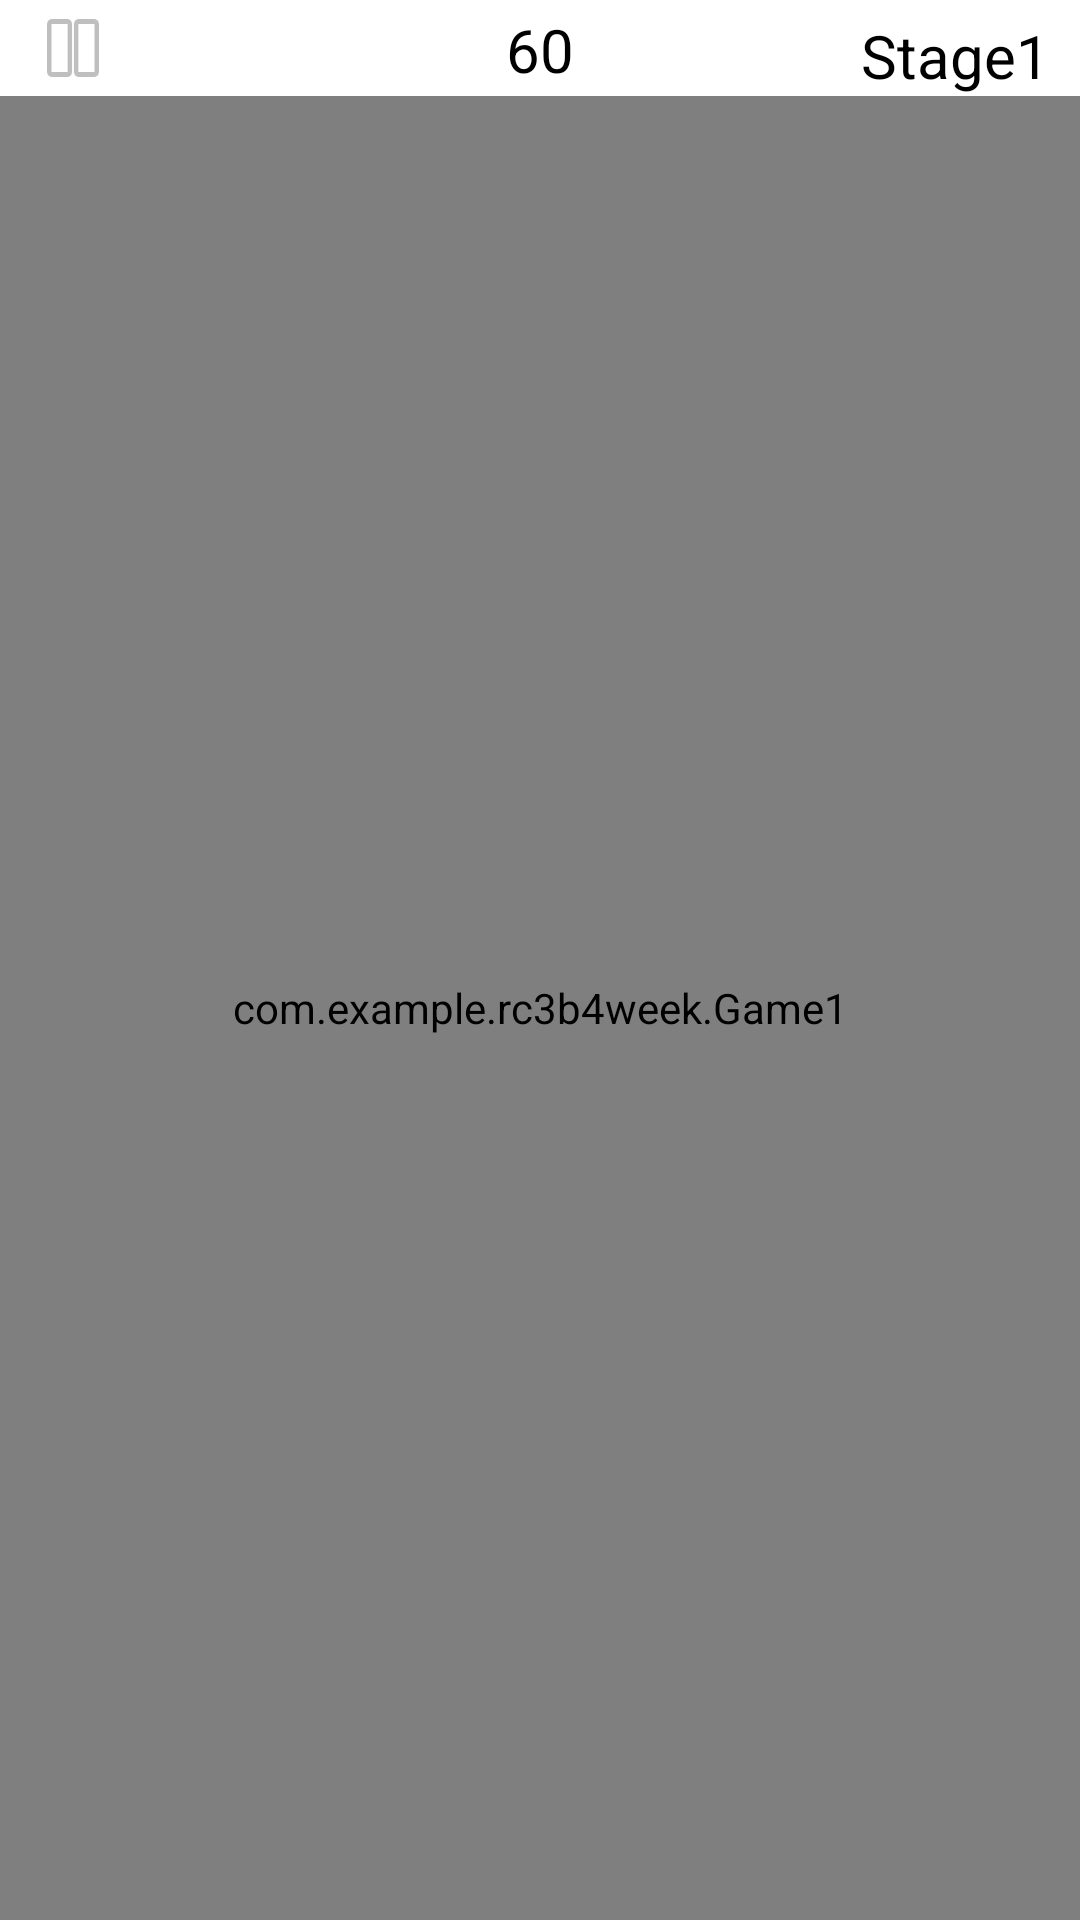

Named icons in this screenshot (1080×1920) and their centers, [x,y]:
pause: [73,48]
